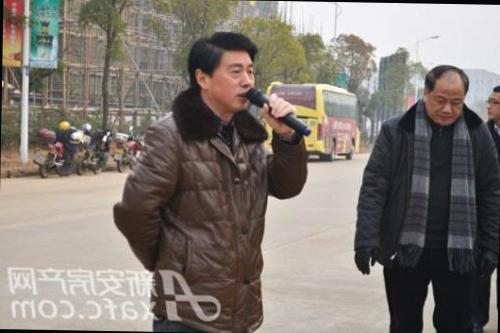no_helmet: (186, 28, 258, 116), (416, 61, 471, 133), (479, 81, 500, 124)
